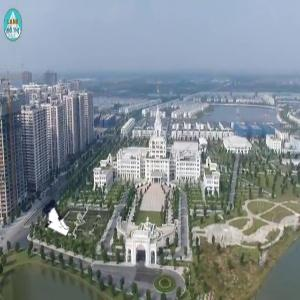drone: (27, 180, 80, 233)
